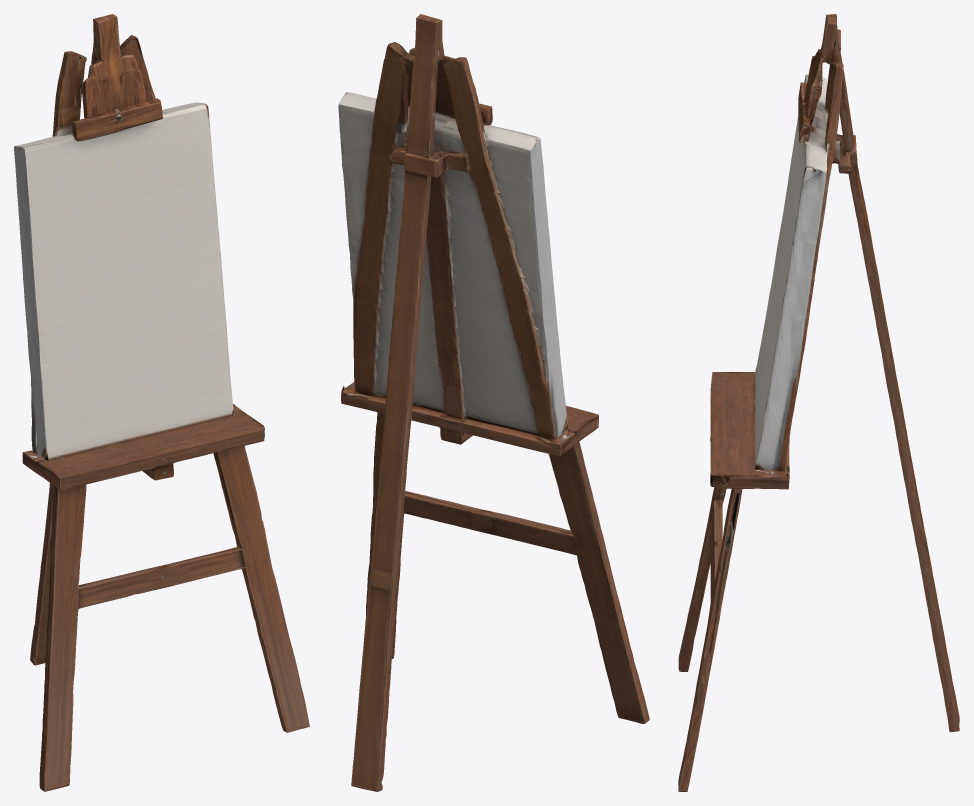
File: Realistic_3D_model_of_0615014842_texture.fbx
3 renders of one model, left to right at view 1: azimuth 30°, elevation 25°; view 2: azimuth 150°, elevation 25°; view 3: azimuth 270°, elevation 25°, orthographic. The views are drawn at different scales.
Parts seen in each view (by area): view 1: temp; view 2: temp; view 3: temp.
Boxes of the visible parts, <box> form: temp: <box>14,14,309,791</box>; temp: <box>338,14,649,791</box>; temp: <box>678,14,959,791</box>.
Size of the model in its own units: 80.79 by 200 by 71.85.
1 material, 1 textured.
